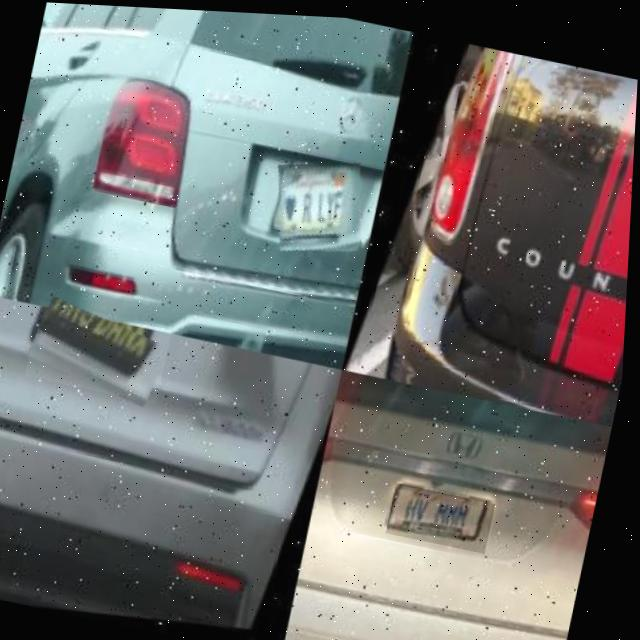LicensePlate: (28, 299, 176, 402), (269, 148, 377, 259), (392, 484, 500, 545)
